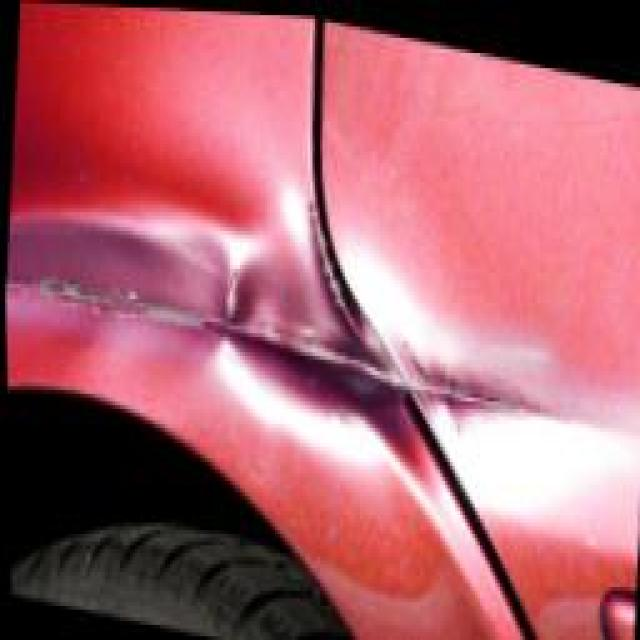Fender: (0, 80, 538, 622)
